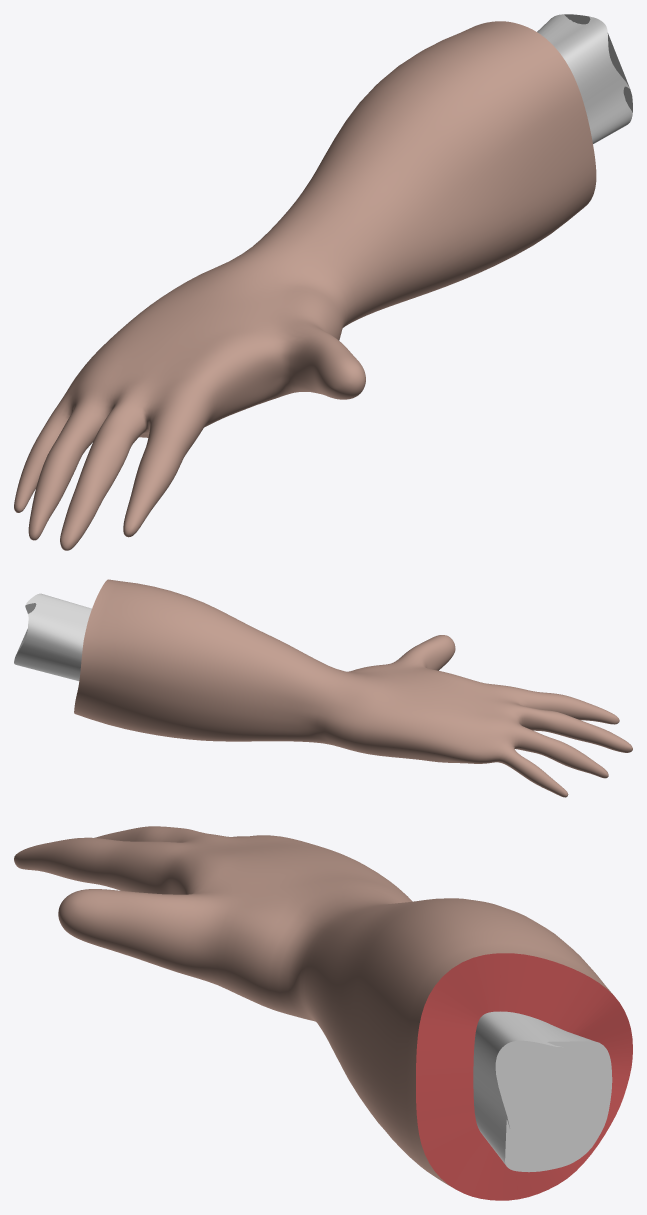
3 renders of one model, top to bottom at view 1: azimuth 30°, elevation 25°; view 2: azimuth 150°, elevation 25°; view 3: azimuth 270°, elevation 25°, orthographic. The views are drawn at different scales.
Parts seen in each view (by area): view 1: polySurface37; view 2: polySurface37; view 3: polySurface37.
Part boxes in pixels (left/top/right/bottom): polySurface37: left=14, top=14, right=632, bottom=550; polySurface37: left=14, top=579, right=632, bottom=797; polySurface37: left=14, top=826, right=632, bottom=1200.
Bounding box in the file's own units: 14.08 × 4.61 × 8.42.
